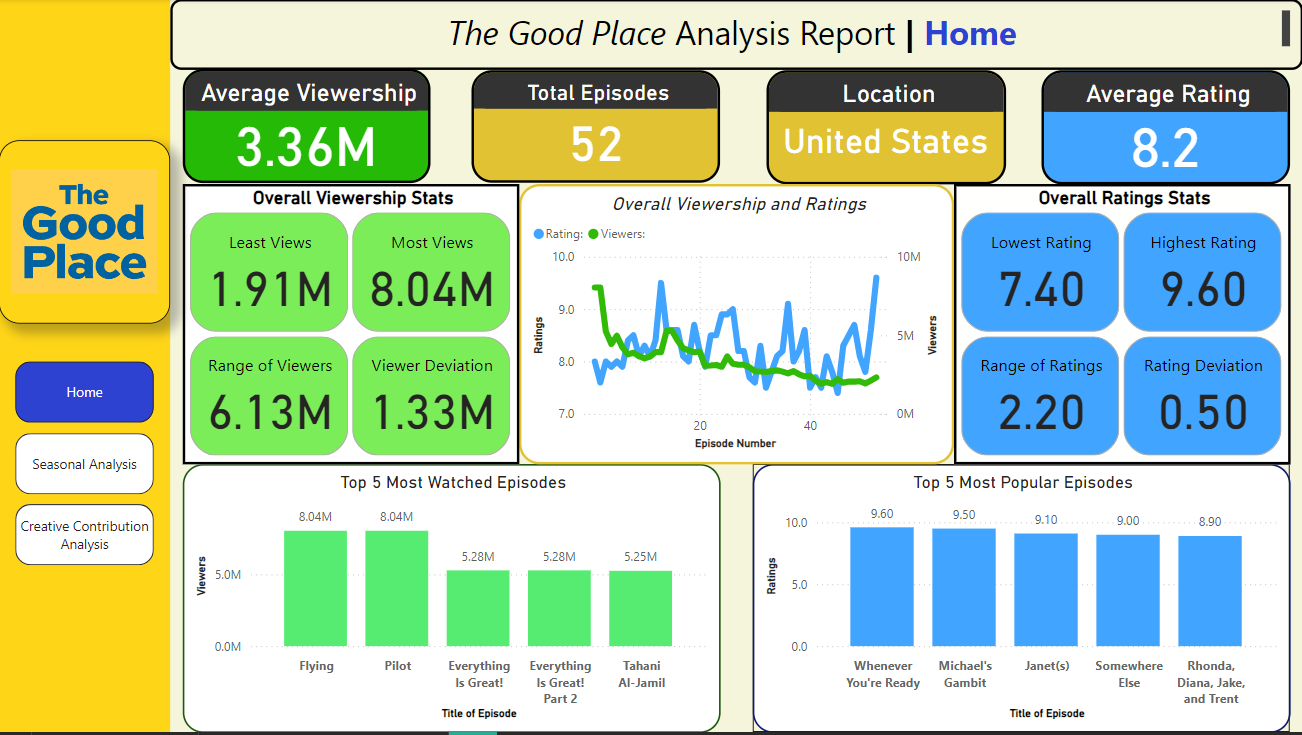

This screenshot's page, from the dashboard's own definition file:
{"tool":"powerbi","page":{"name":"Home","canvas":[1280,720],"ordinal":0},"visuals":[{"type":"card","title":"Total Episodes","fields":{"Values":["Sum(Summary Stats of us_viewers.Total Episodes in the Show)"]},"box":[463.8,69.9,244.2,110.4],"z":0},{"type":"card","title":"Average Viewership","fields":{"Values":["Sum(Summary Stats of us_viewers.avg_views)"]},"box":[180.4,68.7,242.9,111.7],"z":1000},{"type":"card","title":"Average Rating","fields":{"Values":["Sum(Summary Stats of ratings.avg_rating)"]},"box":[1023.3,69.9,244.2,111.7],"z":2000},{"type":"textbox","title":"Location","box":[753.4,69.9,235.6,111.7],"z":3000},{"type":"columnChart","title":"Top 5 Most Watched Episodes","fields":{"Category":["Top 5 Most Watched Episodes.title"],"Y":["Sum(Top 5 Most Watched Episodes.us_viewers)"]},"box":[180.4,456.4,527.6,263.8],"z":4000},{"type":"columnChart","title":"Top 5 Most Popular Episodes","fields":{"Category":["Top 5 Most Popular Episodes.title"],"Y":["Sum(Top 5 Most Popular Episodes.rating)"]},"box":[739.9,456.4,527.6,263.8],"z":5000},{"type":"lineChart","title":"Overall Viewership and Ratings","fields":{"Category":["Correlation Between Viewership and Ratings.episode_num_overall"],"Y2":["Sum(Correlation Between Viewership and Ratings.us_viewers)"],"Y":["Sum(Correlation Between Viewership and Ratings.rating)"]},"box":[510.4,181.6,427,274.8],"z":6000},{"type":"cardVisual","title":"Overall Viewership Stats","fields":{"Data":["Sum(Summary Stats of us_viewers.least_viewed_episode)","Sum(Summary Stats of us_viewers.most_viewed_episode)","Sum(Summary Stats of us_viewers.viewership_range)","Sum(Summary Stats of us_viewers.viewers_standard_dev)"]},"box":[180.4,181.6,330.1,274.8],"z":7000},{"type":"cardVisual","title":"Overall Ratings Stats","fields":{"Data":["Sum(Summary Stats of ratings.lowest_rated_episode)","Sum(Summary Stats of ratings.highest_rated_episode)","Sum(Summary Stats of ratings.rating_range)","Sum(Summary Stats of ratings.rating_standard_dev)"]},"box":[937.4,181.6,330.1,274.8],"z":8000},{"type":"textbox","title":"The Good Place Analysis Report | Home","box":[168.1,0,1111.7,69.9],"z":9000},{"type":"textbox","box":[0,0,168.1,720.2],"z":10000},{"type":"image","box":[0,138.7,168.1,180.4],"z":11000},{"type":"pageNavigator","box":[16,355.8,136.2,202.5],"z":12000}]}

Visuals, with their boxes in screenshot pixels (x1, y1, x2, y2), scaled from the page's 1280x720 canvas onto the 1302x735 screenshot:
"Total Episodes" card: select_region(472, 71, 720, 184)
"Average Viewership" card: select_region(184, 70, 431, 184)
"Average Rating" card: select_region(1041, 71, 1289, 185)
"Location" textbox: select_region(766, 71, 1006, 185)
"Top 5 Most Watched Episodes" columnChart: select_region(184, 466, 720, 734)
"Top 5 Most Popular Episodes" columnChart: select_region(753, 466, 1289, 734)
"Overall Viewership and Ratings" lineChart: select_region(519, 185, 954, 466)
"Overall Viewership Stats" cardVisual: select_region(184, 185, 519, 466)
"Overall Ratings Stats" cardVisual: select_region(954, 185, 1289, 466)
"The Good Place Analysis Report | Home" textbox: select_region(171, 0, 1301, 71)
textbox: select_region(0, 0, 171, 734)
image: select_region(0, 142, 171, 326)
pageNavigator: select_region(16, 363, 155, 570)
